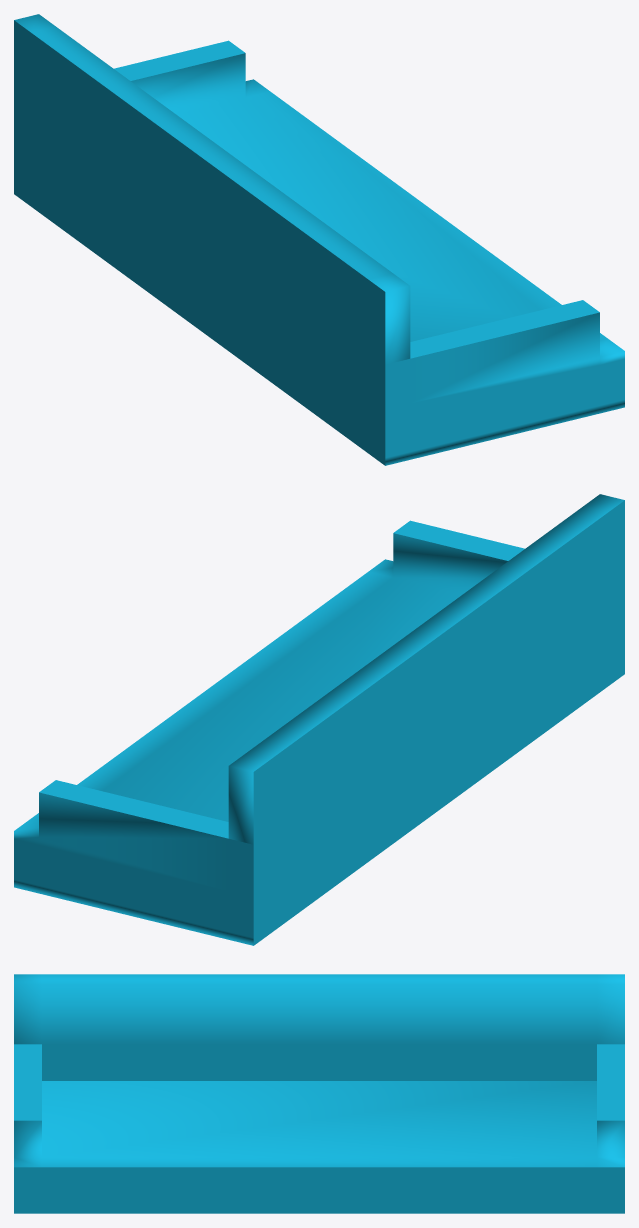
The model's file is sofaa3.glb.
The picture shows the model from 3 angles, top to bottom: view 1: azimuth 30°, elevation 25°; view 2: azimuth 150°, elevation 25°; view 3: azimuth 270°, elevation 25°; orthographic projection. The views are drawn at different scales.
Parts seen in each view (by area): view 1: Plane; view 2: Plane; view 3: Plane.
Part boxes in pixels (left/top/right/bottom): Plane: left=14, top=14, right=624, bottom=465; Plane: left=14, top=494, right=624, bottom=945; Plane: left=14, top=974, right=624, bottom=1213.
Bounding box in the file's own units: 2 × 1.39 × 5.36.
